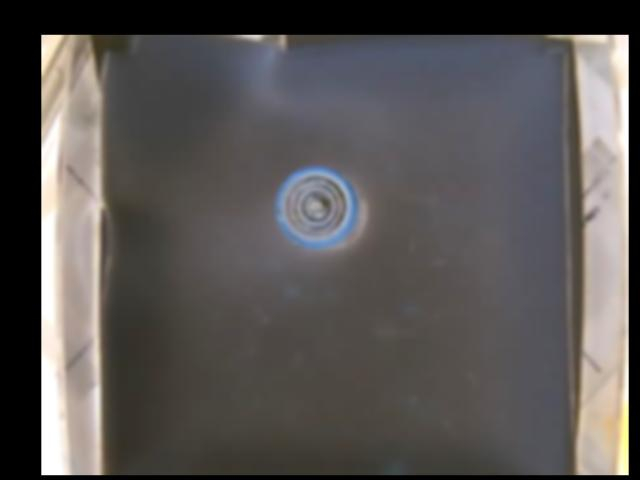Battery: (272, 166, 366, 247)
